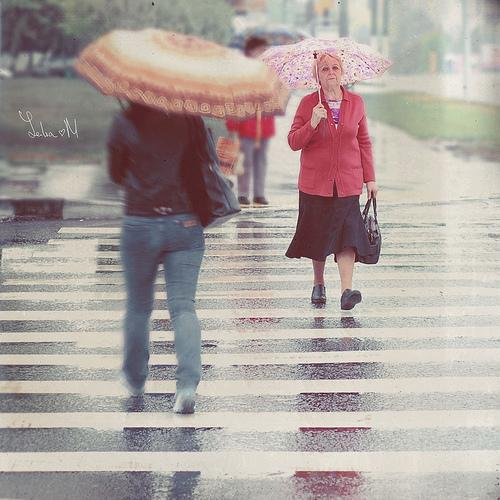person: (284, 51, 381, 311)
